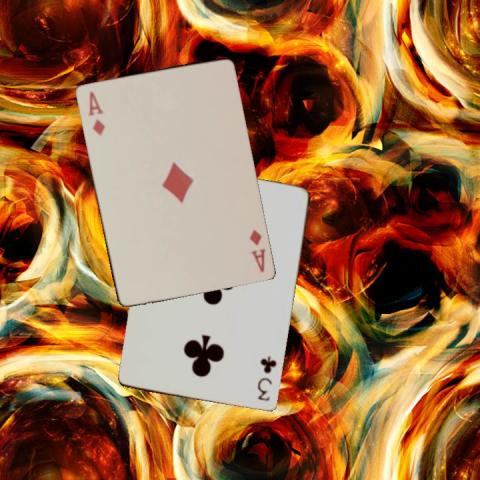3c: (254, 354, 278, 404)
Ad: (85, 88, 106, 137), (246, 226, 267, 274)
